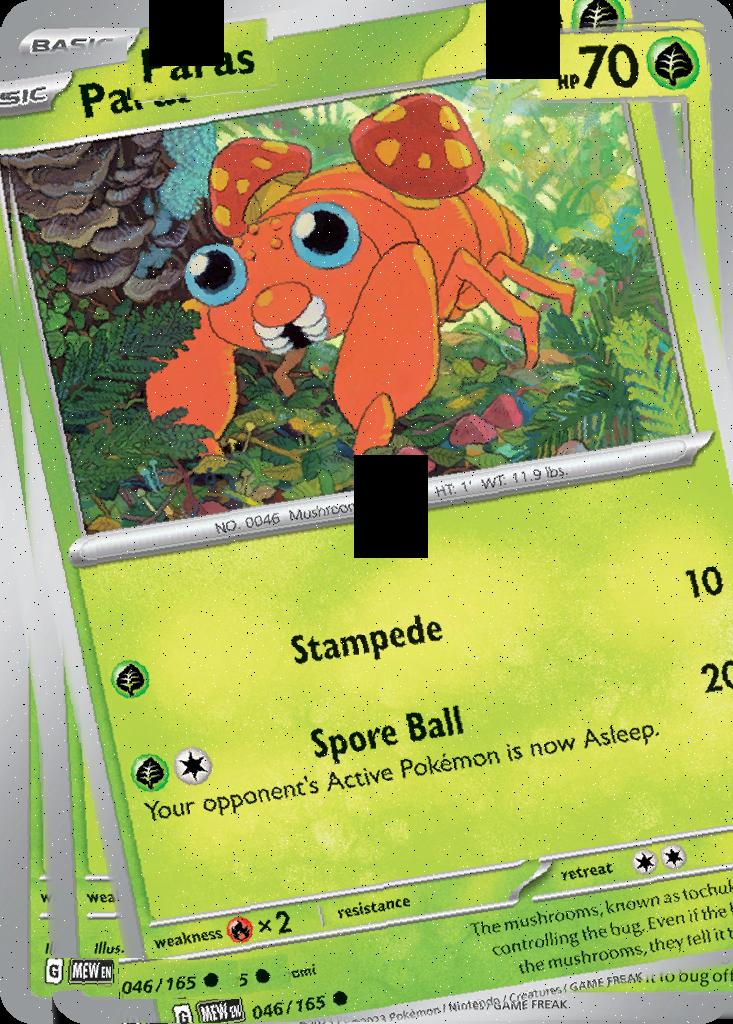card: (0, 0, 733, 1024)
hp: (532, 22, 708, 104)
name: (127, 25, 273, 101)
set num: (119, 958, 241, 999)
set symbol: (37, 959, 113, 994)
